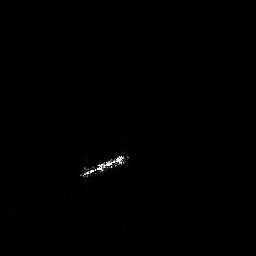ship: (76, 150, 131, 181)
